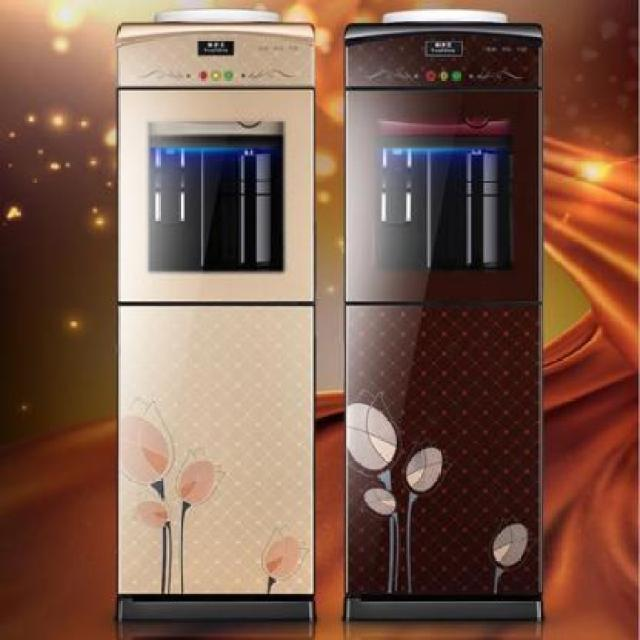cooler: (342, 8, 546, 628), (117, 6, 316, 626)
